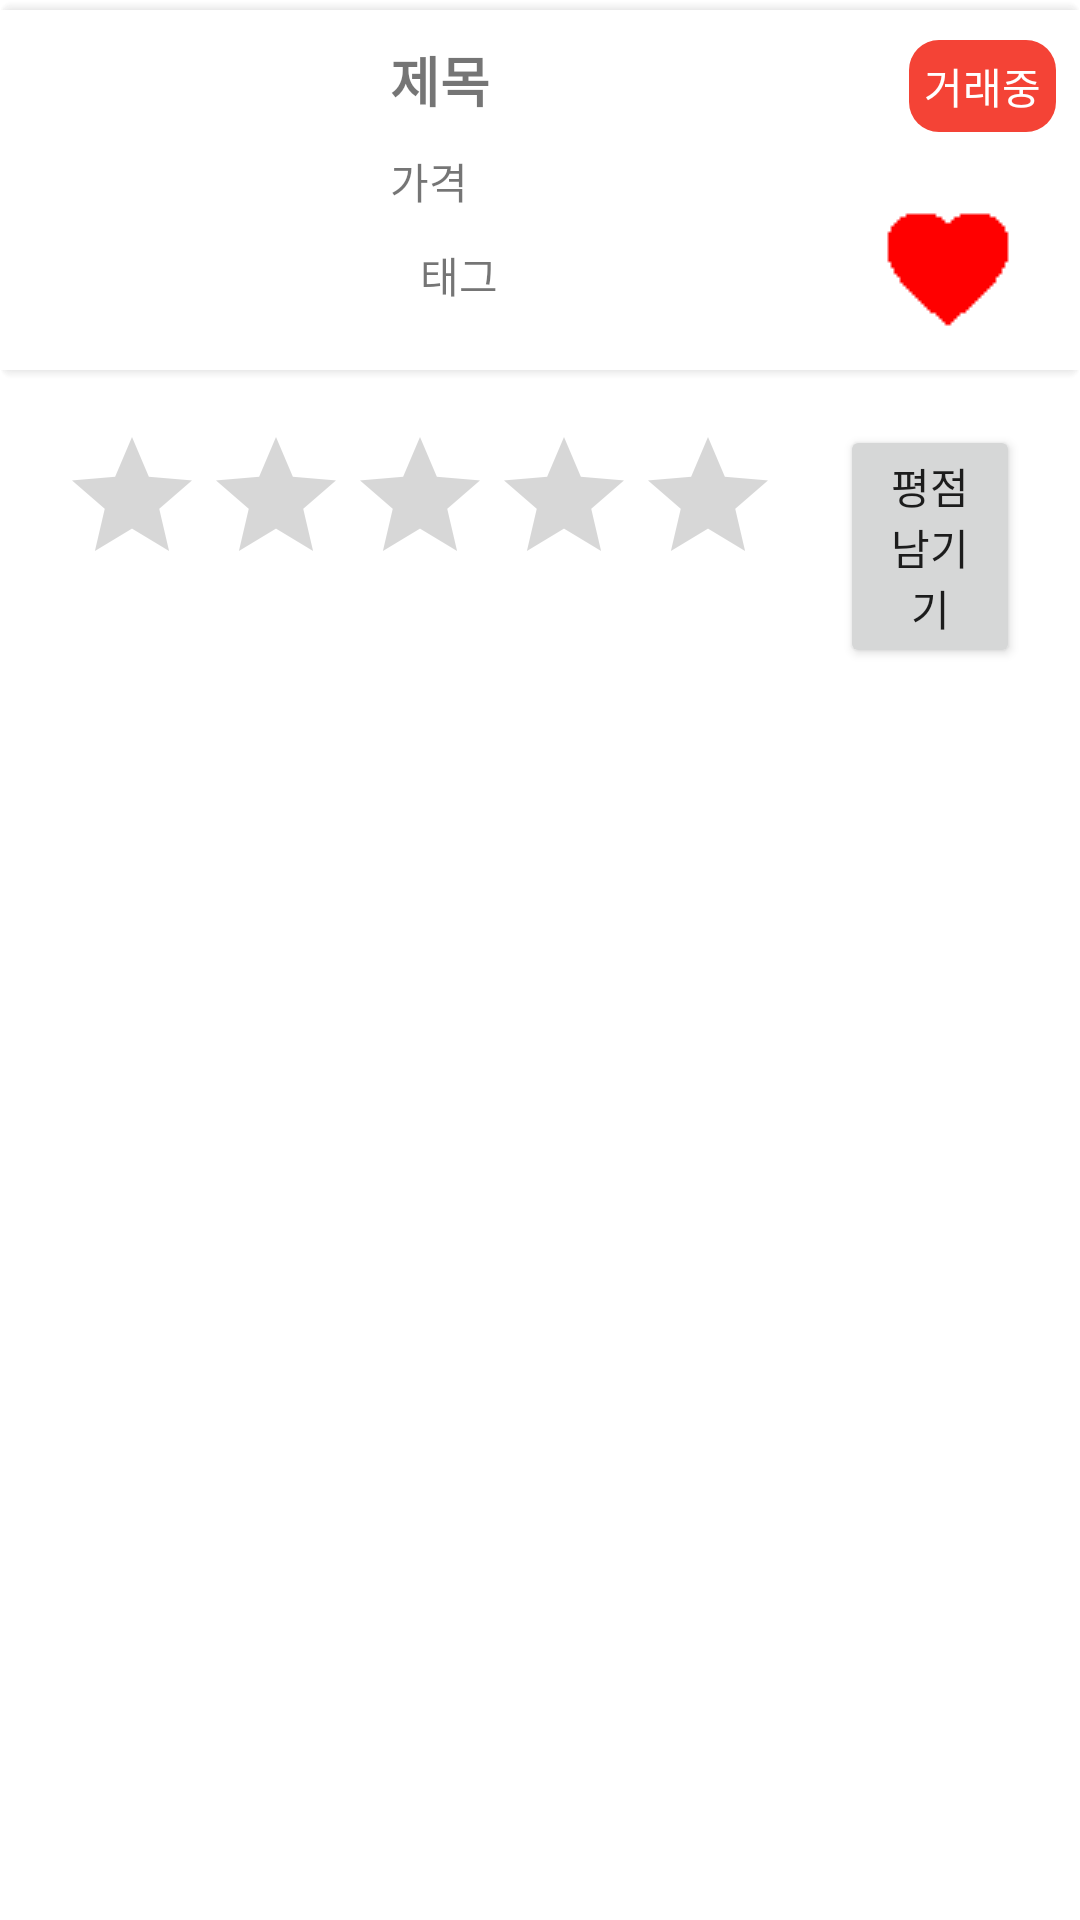

Icons on this 1080x1920 Android screen, each with its box as bbox=[x1, y1, x2, y2]:
heart: bbox=[887, 213, 1009, 326]
